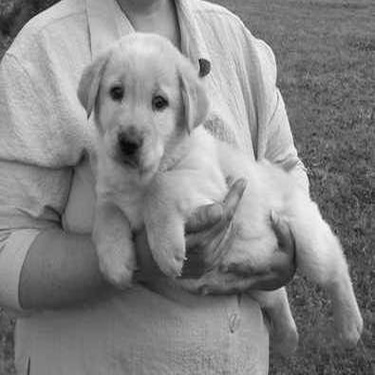dog: (70, 27, 366, 354)
